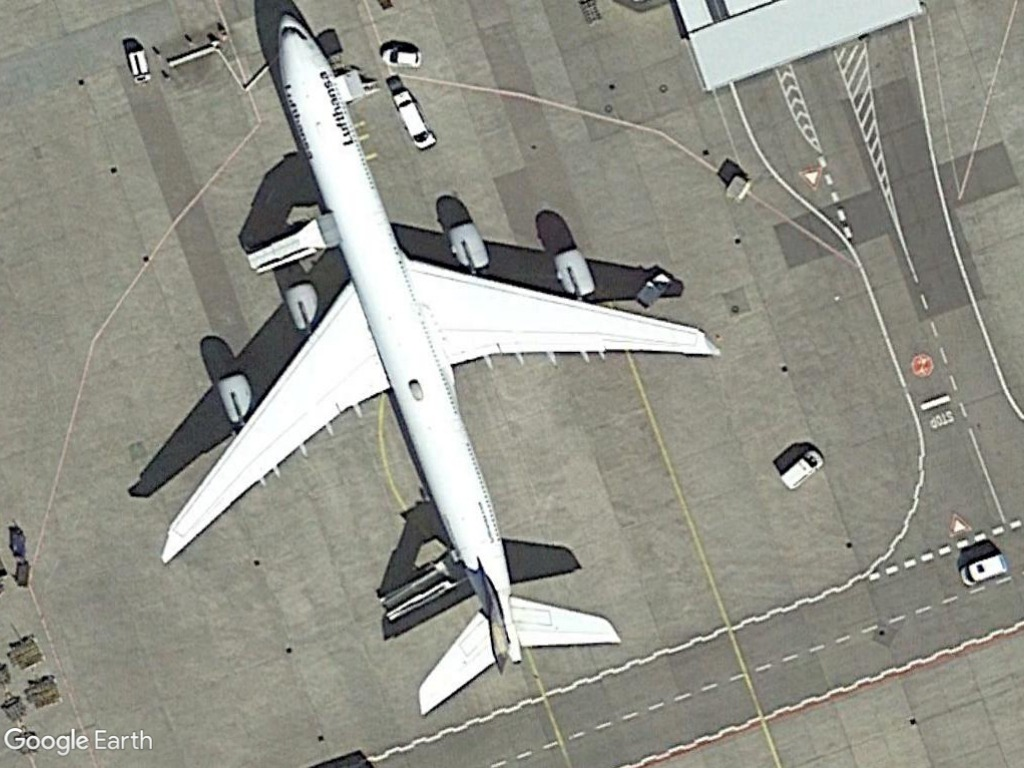airliner: (112, 4, 732, 727)
car: (373, 30, 428, 77)
van: (948, 545, 1018, 601), (771, 436, 827, 492)
